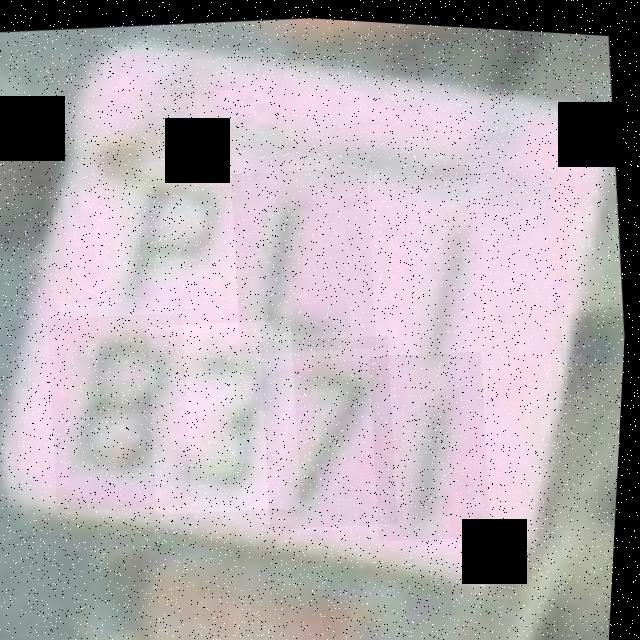1: (364, 339, 503, 542)
3: (142, 309, 313, 519)
7: (255, 324, 410, 531)
8: (42, 303, 205, 516)
J: (225, 157, 387, 357)
P: (85, 148, 249, 342)
